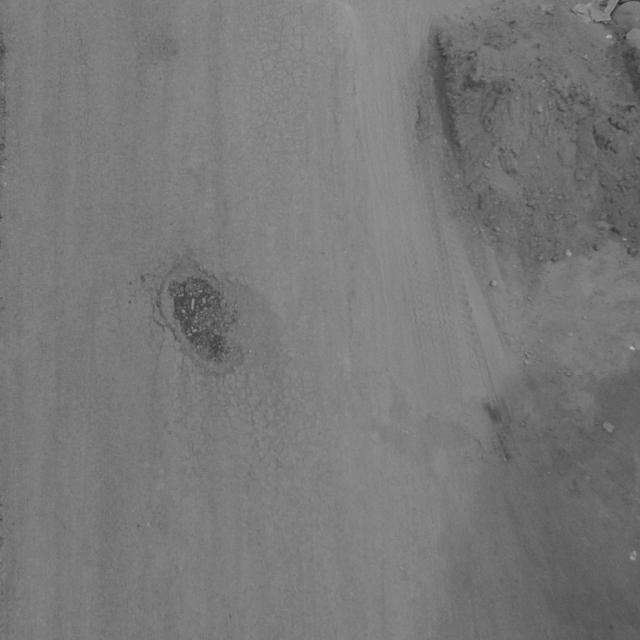BACHE: (159, 266, 262, 370)
PIEL DE COCODRILO: (195, 352, 327, 555), (250, 3, 316, 190)
